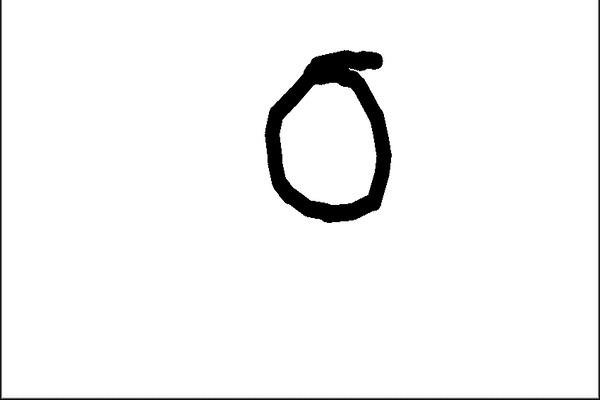O: (250, 32, 399, 234)
